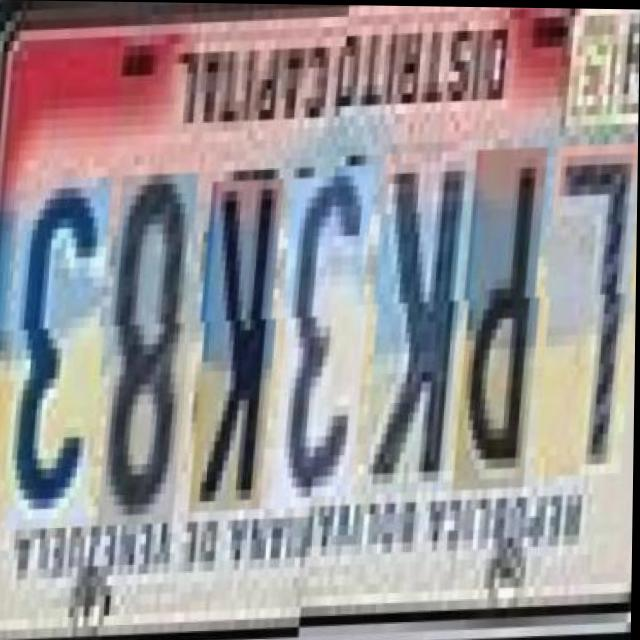3: (0, 157, 106, 514), (264, 158, 369, 495)
8: (92, 154, 192, 511)
k: (355, 144, 465, 491), (183, 161, 277, 496)
l: (527, 139, 636, 476)
p: (446, 142, 541, 487)
